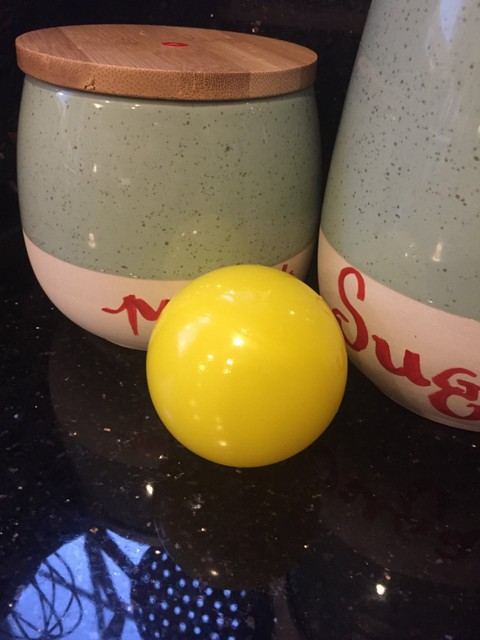ball: (142, 262, 348, 469)
